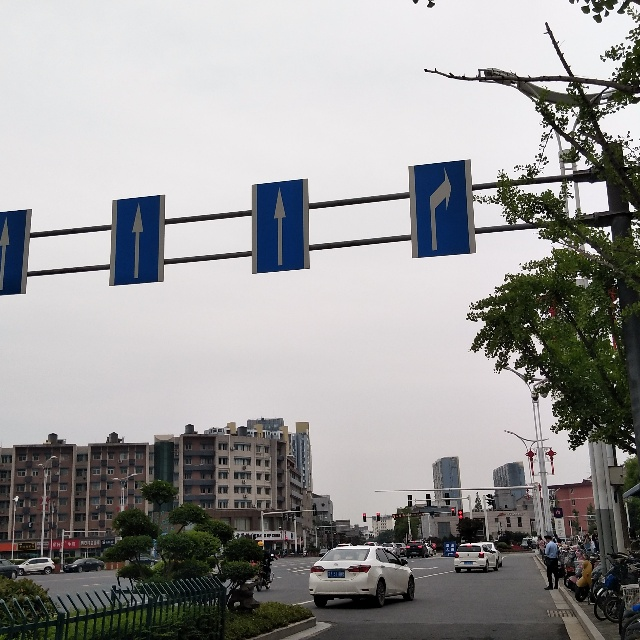right: (408, 155, 476, 259)
straight: (109, 189, 169, 293), (253, 180, 313, 274), (1, 201, 33, 301)
